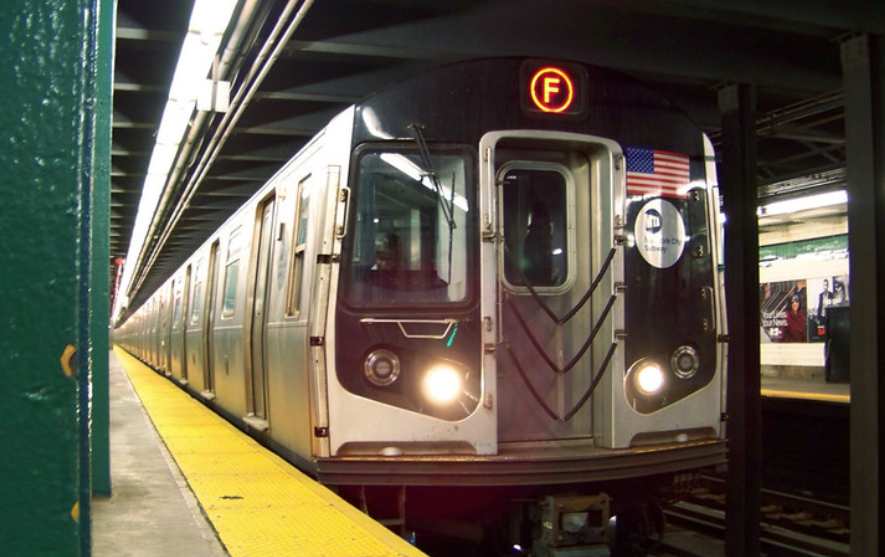train: (311, 56, 732, 493)
